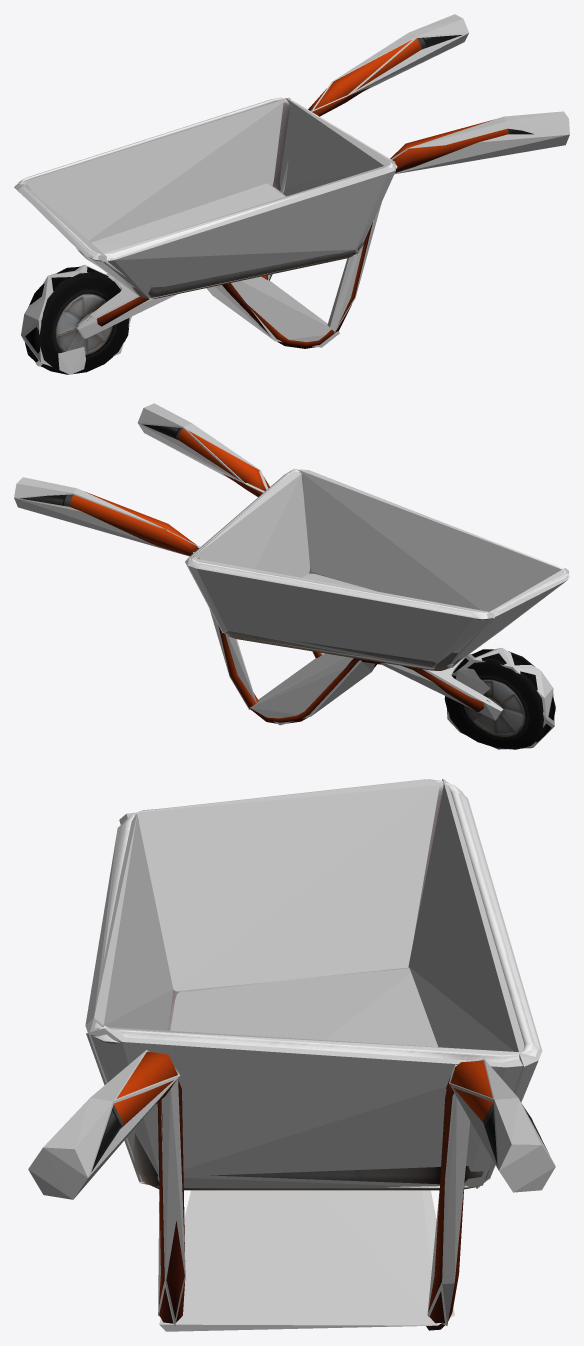
File: SM_Pushcart01.fbx
The picture shows the model from 3 angles, top to bottom: view 1: azimuth 30°, elevation 25°; view 2: azimuth 150°, elevation 25°; view 3: azimuth 270°, elevation 25°; orthographic projection. The views are drawn at different scales.
Visible parts, largest first — view 1: SM_Pushcart01_ConvexHulls, SM_Pushcart01; view 2: SM_Pushcart01_ConvexHulls, SM_Pushcart01; view 3: SM_Pushcart01_ConvexHulls, SM_Pushcart01.
Boxes of the visible parts, x1,y1,x2,y2 form: SM_Pushcart01_ConvexHulls: (14, 14, 569, 374); SM_Pushcart01: (18, 35, 533, 374); SM_Pushcart01_ConvexHulls: (14, 403, 568, 749); SM_Pushcart01: (20, 424, 569, 749); SM_Pushcart01_ConvexHulls: (28, 778, 555, 1331); SM_Pushcart01: (91, 779, 549, 1330).
Bounding box in the file's own units: 238 × 113 × 96.21.
2 materials, 1 textured.
